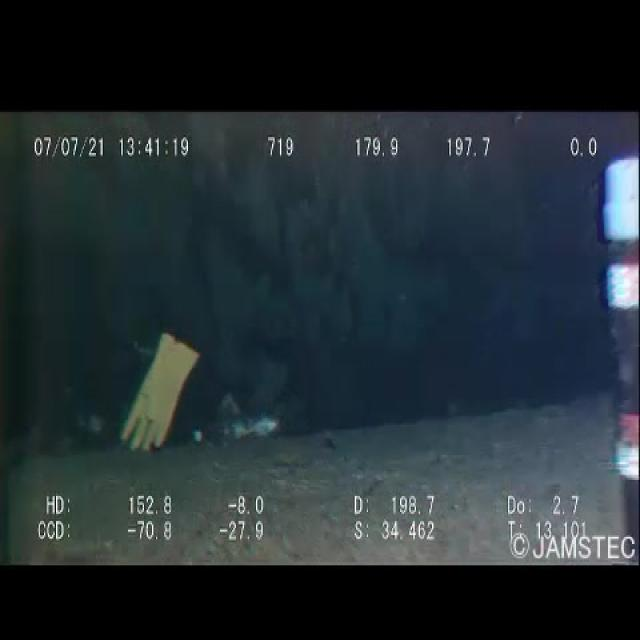plastic: (182, 407, 230, 448)
